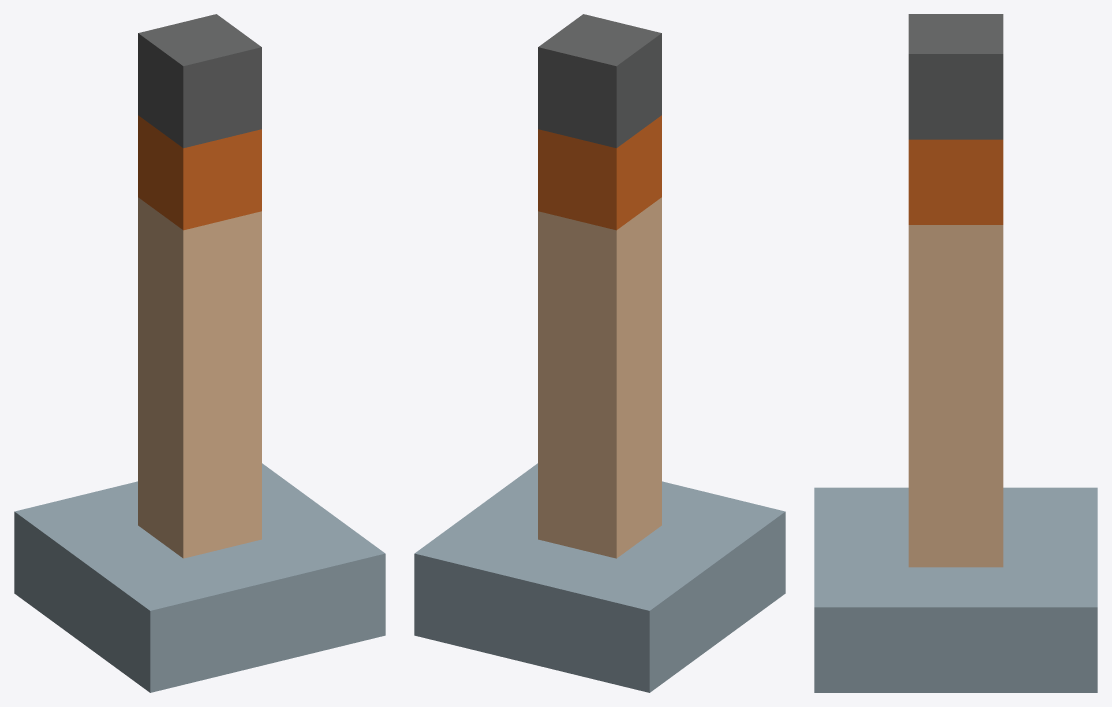
File: Candle1.obj
The picture shows the model from 3 angles, left to right: view 1: azimuth 30°, elevation 25°; view 2: azimuth 150°, elevation 25°; view 3: azimuth 270°, elevation 25°; orthographic projection. The views are drawn at different scales.
Bounding box in the file's own units: 3 × 7 × 3.
1 material, 1 textured.
